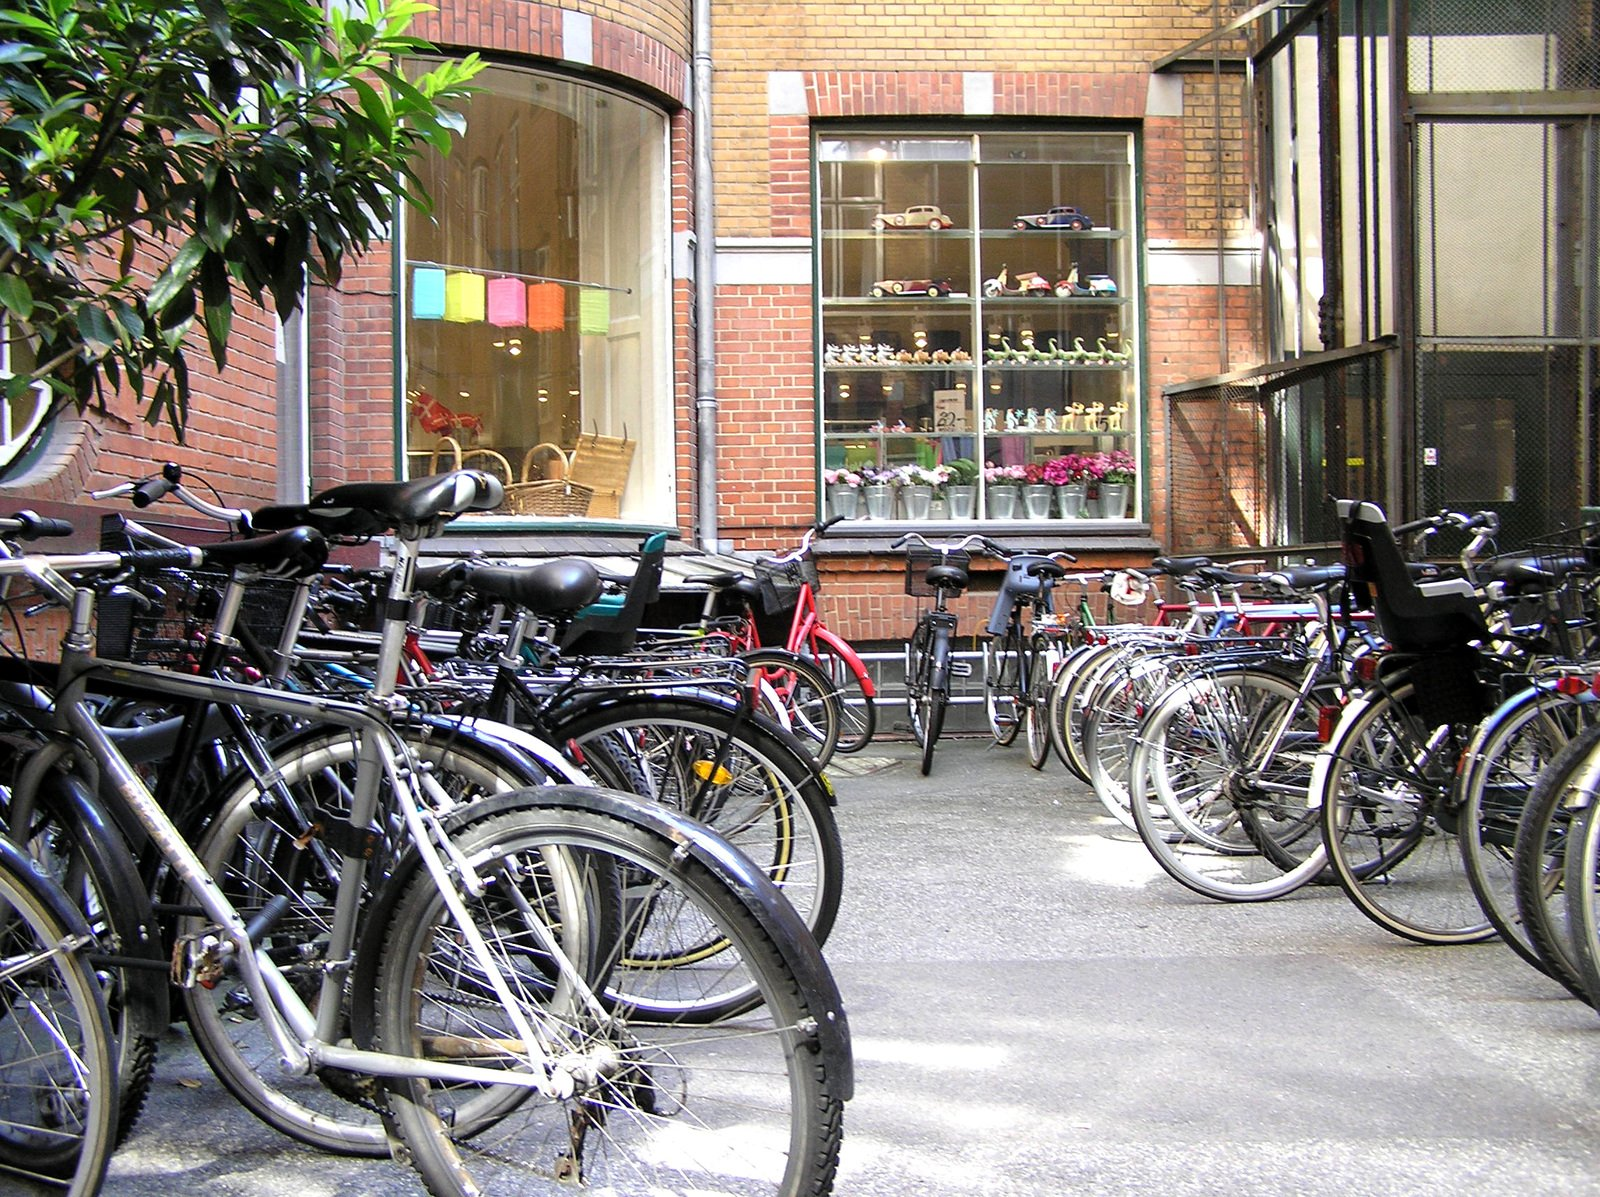Bicycle: (13, 8, 1584, 1186)
